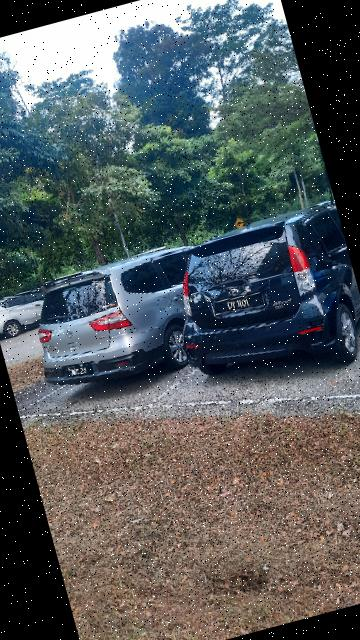License_Plate: (211, 286, 271, 324), (68, 361, 97, 381)
car: (156, 201, 360, 405), (18, 232, 252, 408)
